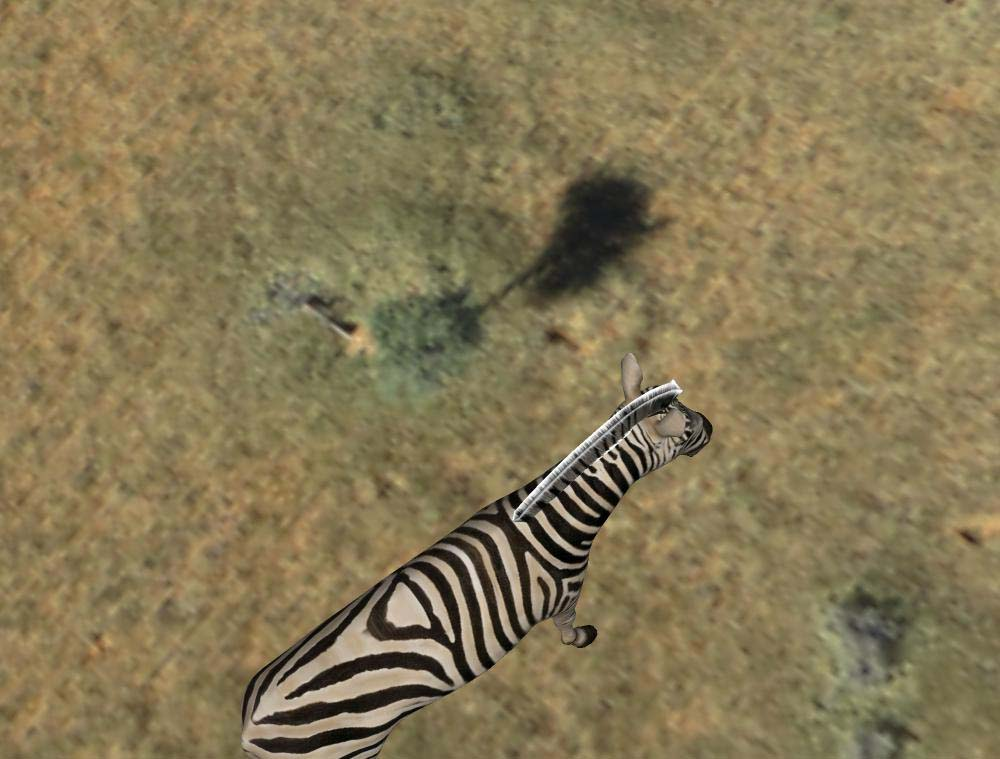zebra: (237, 356, 710, 759)
